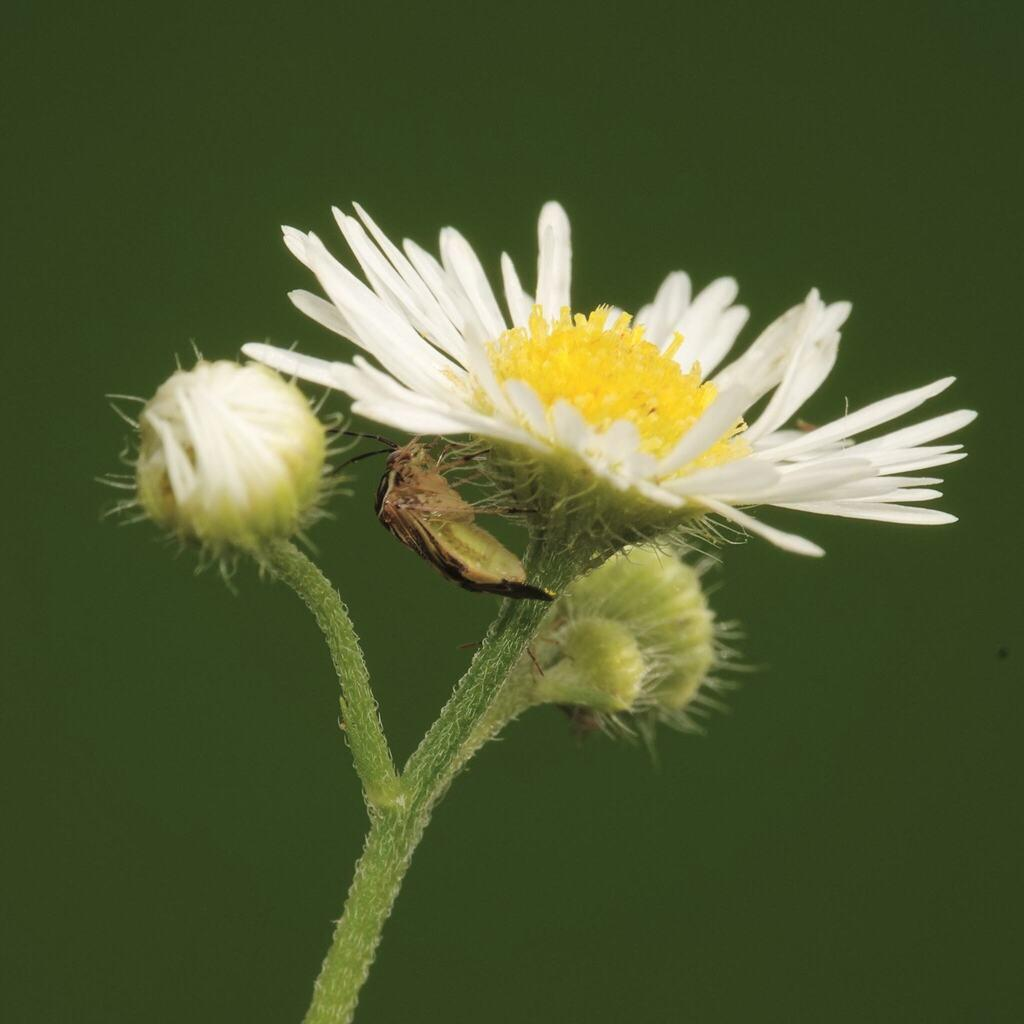plant_bugs: (308, 387, 560, 648)
